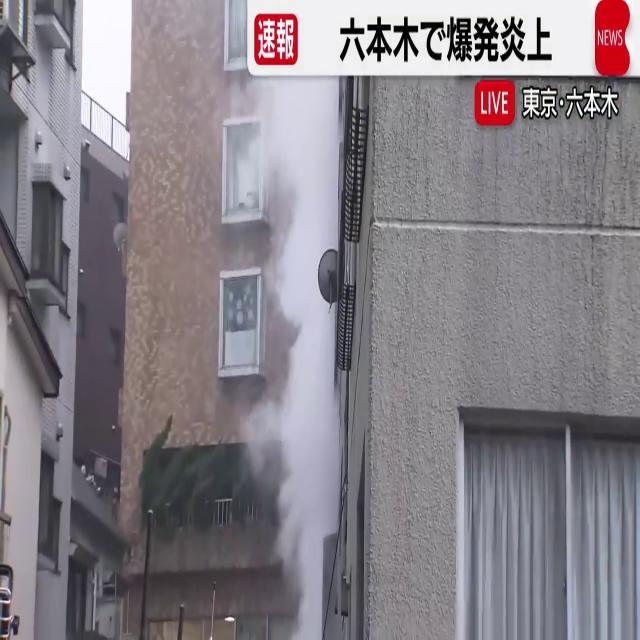Smoke: (246, 80, 342, 626)
